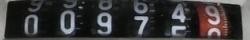digits: (59, 9, 76, 35), (170, 1, 189, 24), (203, 4, 222, 26), (96, 11, 112, 36), (132, 15, 150, 36), (24, 13, 39, 38)
